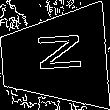N_W: (26, 37, 82, 80)
